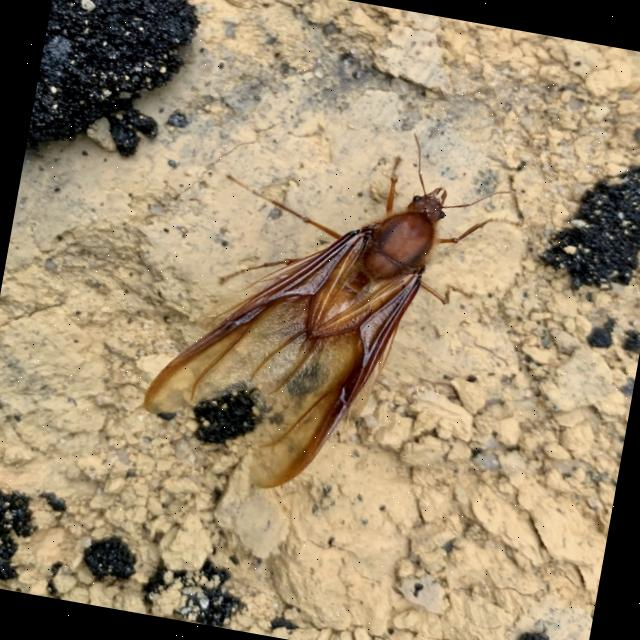Alive-Male-Alate: (134, 94, 522, 524)
